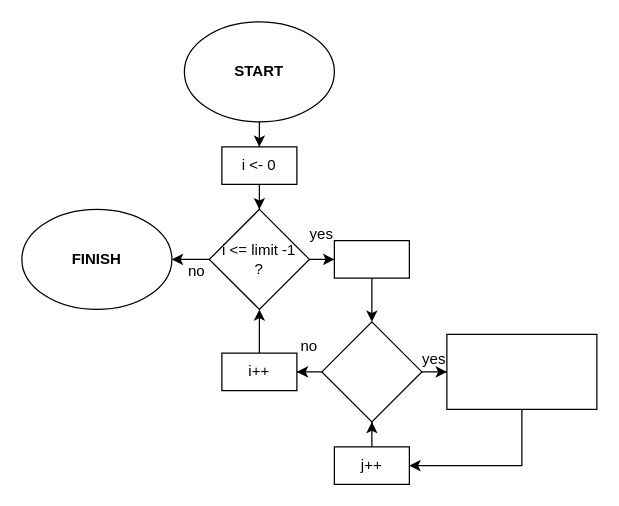
Image size: 619x506. Some labels were removed from this diagram. The shapes that lost their labels are listed below. From the top down, each one's centre as x and y in pixels, then its label:
At point 371,258: "j <- 0".
At point 371,371: "j <= limit -1 ?".
At point 521,371: "Table.brr[i][j]=-1;".
